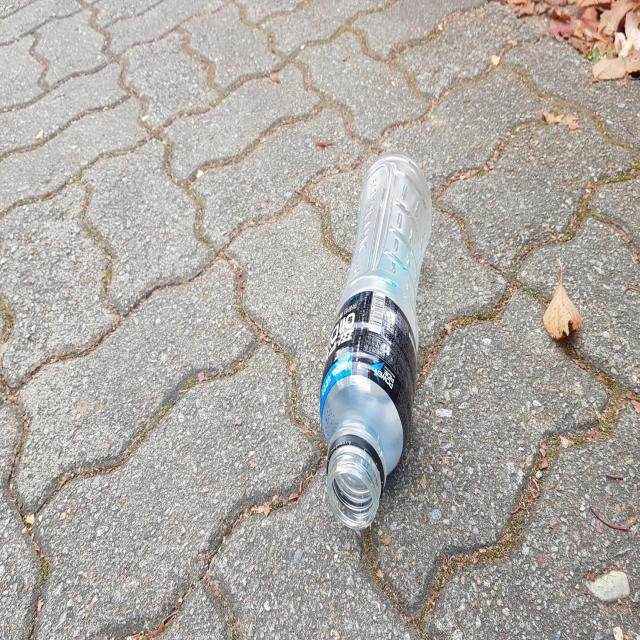plastic: (320, 152, 433, 529)
